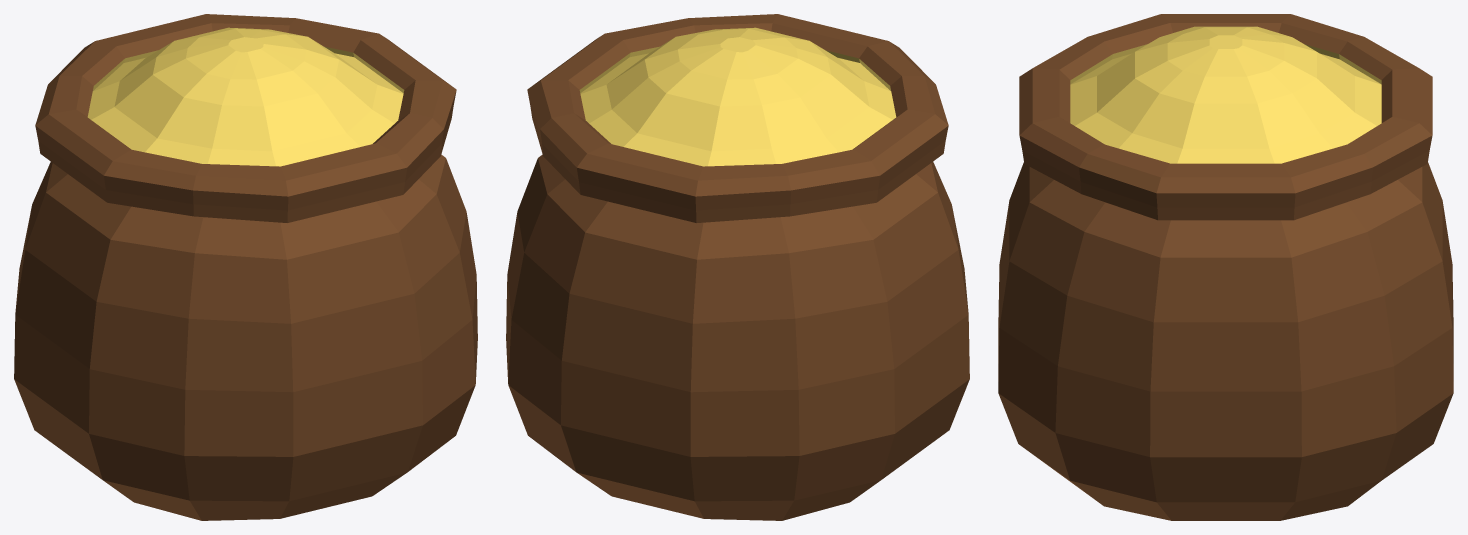
File: seeds.fbx
3 renders of one model, left to right at view 1: azimuth 30°, elevation 25°; view 2: azimuth 150°, elevation 25°; view 3: azimuth 270°, elevation 25°, orthographic.
Visible parts, largest first — view 1: seeds; view 2: seeds; view 3: seeds.
Part boxes in pixels (box(x1,y1,x2,y2)): seeds: box(14, 14, 477, 520); seeds: box(506, 14, 969, 520); seeds: box(998, 14, 1453, 520).
Size of the model in its own units: 429 by 437 by 429.
